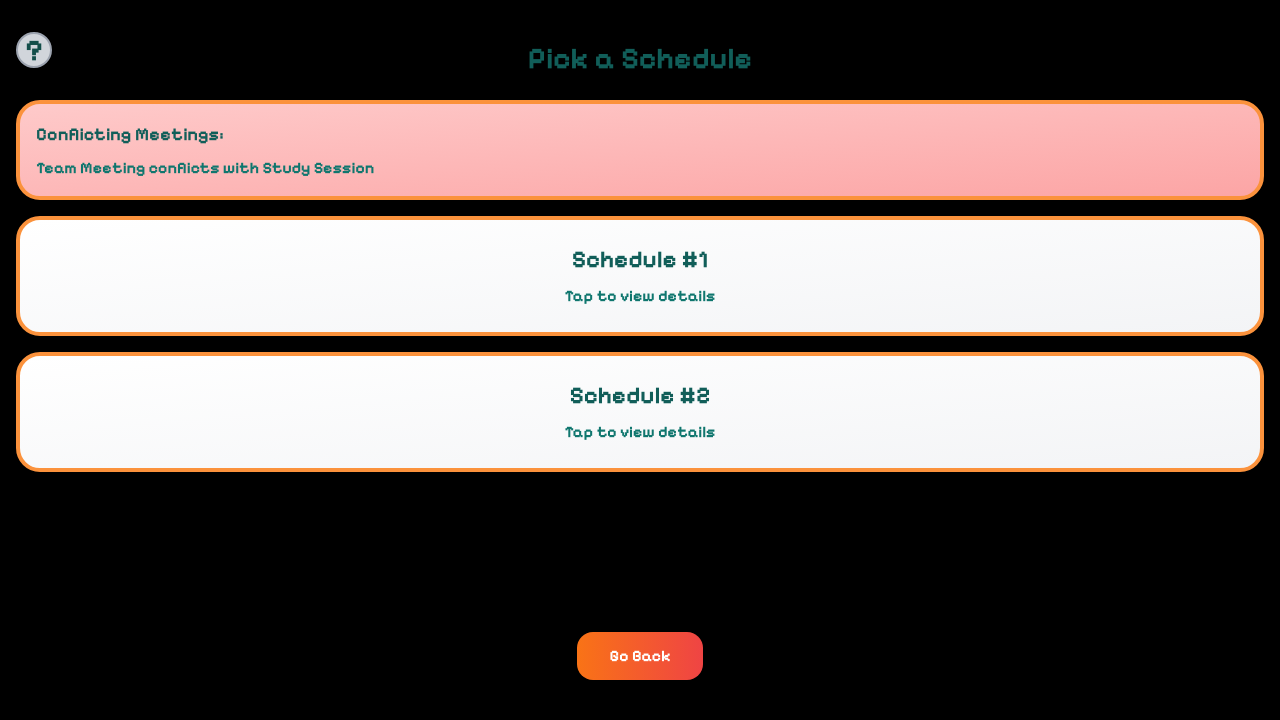
Test: SchedulePicker Component › displays schedule details in modal
Click the button with test id "schedule-button-1" at (640, 276), box [16, 216, 1264, 336]
(page scrolled)
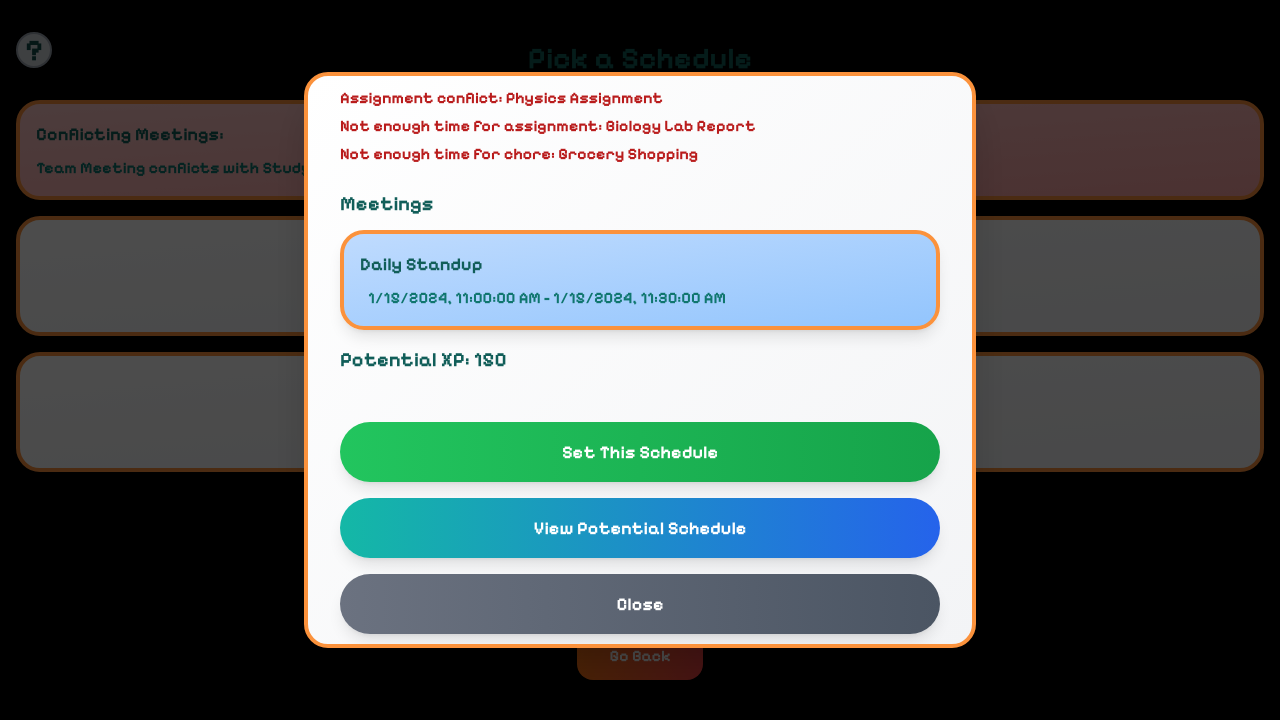
Check: the heading "Meetings" is shown, box [340, 192, 434, 216]
Check: the text with test id "potential-xp-display" reads "Potential XP: 150", box [340, 348, 506, 372]
